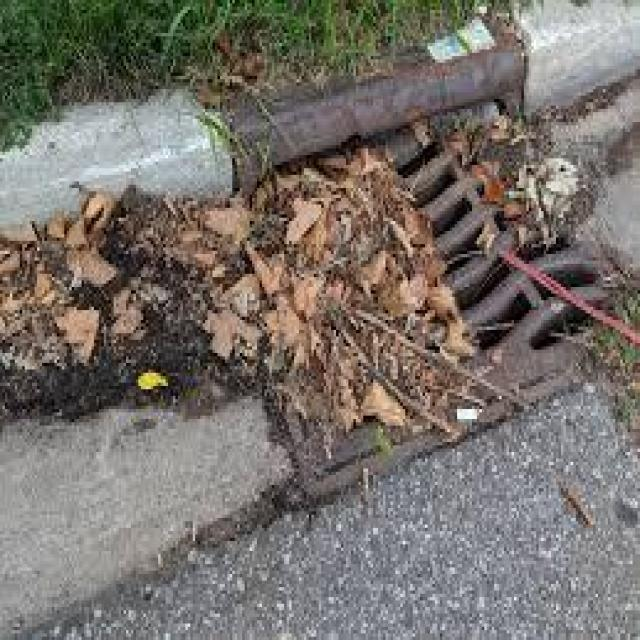curb: (1, 1, 640, 271)
